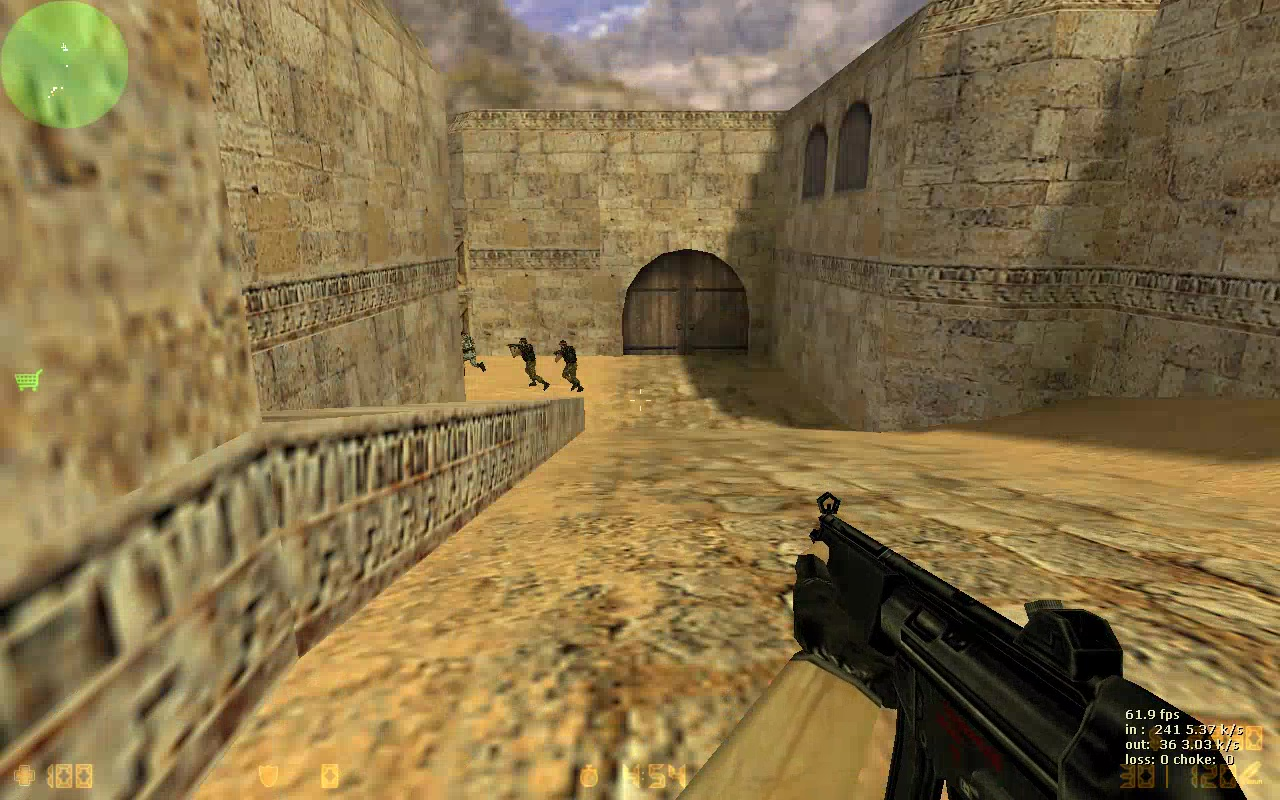terr1: (508, 337, 546, 390), (555, 339, 588, 391)
terr2: (463, 333, 481, 374)
